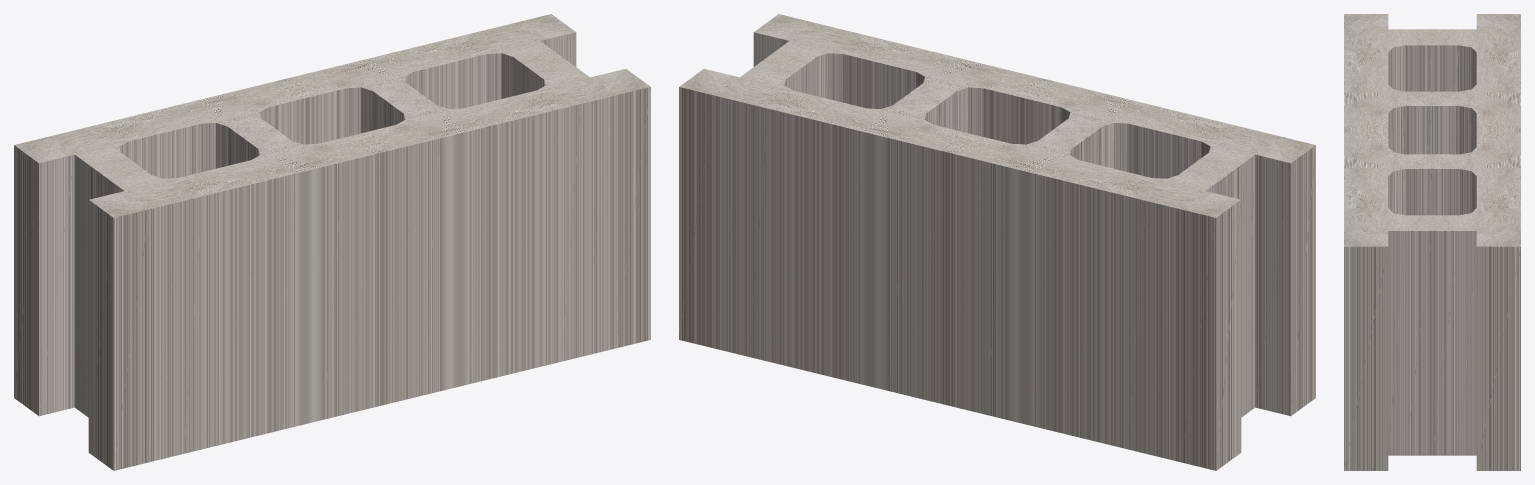
File: Block_1.fbx
The picture shows the model from 3 angles, left to right: view 1: azimuth 30°, elevation 25°; view 2: azimuth 150°, elevation 25°; view 3: azimuth 270°, elevation 25°; orthographic projection. The views are drawn at different scales.
Parts seen in each view (by area): view 1: 平面.001; view 2: 平面.001; view 3: 平面.001.
Part boxes in pixels (x1,y1,x2,y2): 平面.001: (14,14,650,470); 平面.001: (679,14,1315,470); 平面.001: (1344,14,1520,470).
Size of the model in its own units: 67.86 by 30.54 by 21.8.
1 material, 1 textured.
